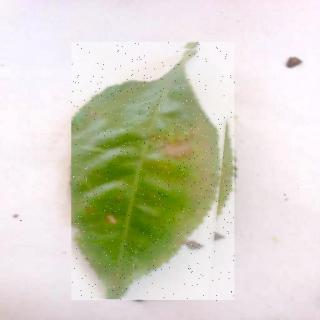Brown Blight: (73, 44, 237, 303)
